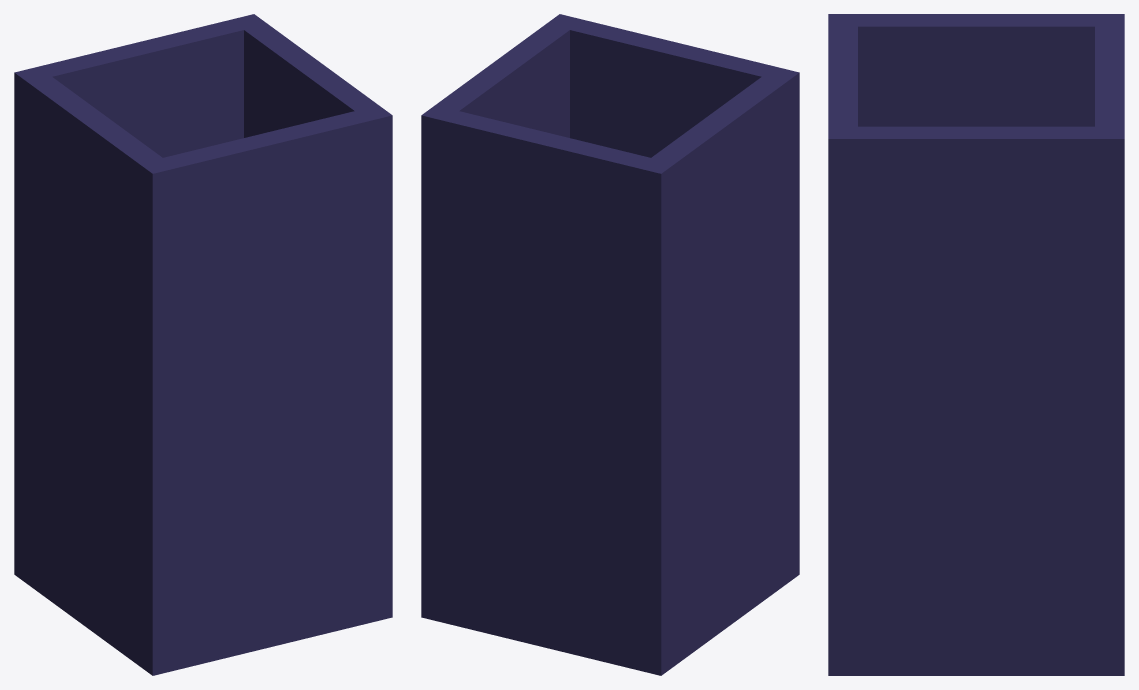
File: storage.gltf
3 renders of one model, left to right at view 1: azimuth 30°, elevation 25°; view 2: azimuth 150°, elevation 25°; view 3: azimuth 270°, elevation 25°, orthographic. The views are drawn at different scales.
Visible parts, largest first — view 1: Cube; view 2: Cube; view 3: Cube.
Part boxes in pixels (x1=…): Cube: x1=14, y1=14, x2=392, y2=675; Cube: x1=421, y1=14, x2=799, y2=675; Cube: x1=828, y1=14, x2=1124, y2=675.
Bounding box in the file's own units: 0.4 × 0.8 × 0.4.
